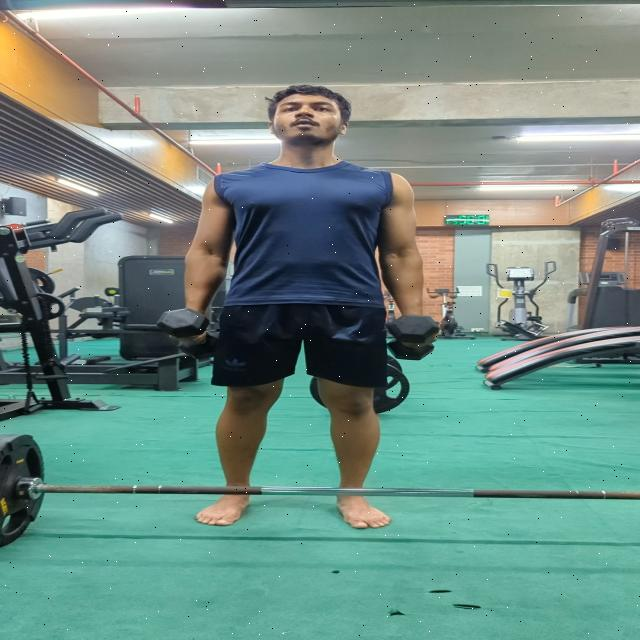Normal_DumbbellBicepCurls: (137, 80, 462, 553)
